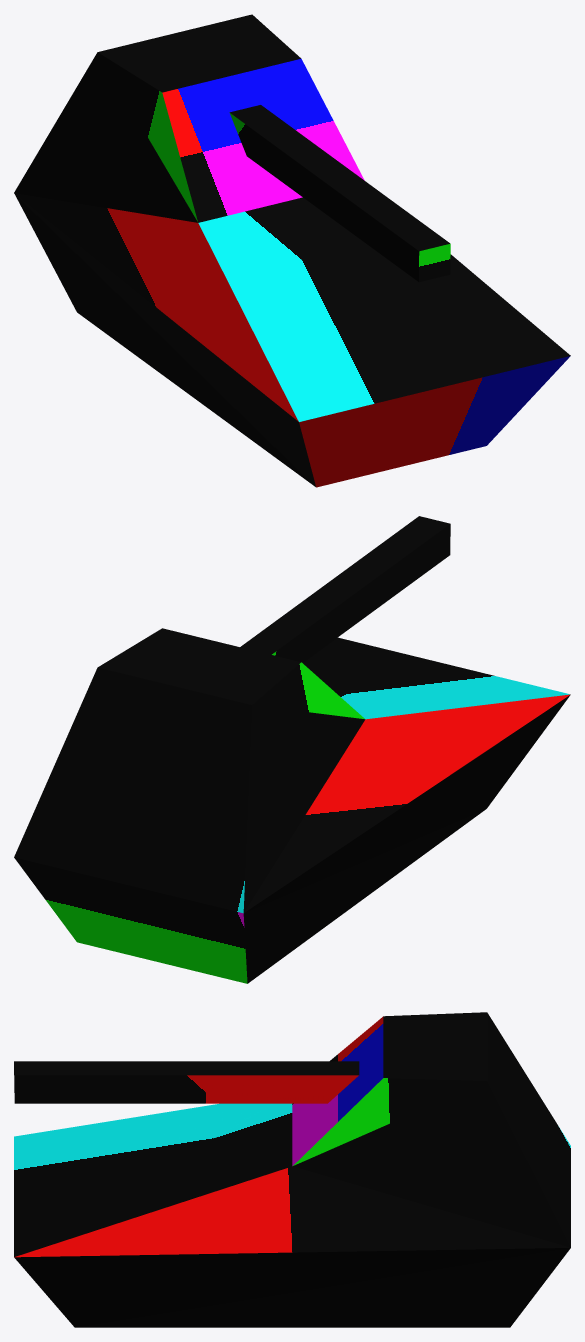
File: HeavyTank.obj
3 renders of one model, top to bottom at view 1: azimuth 30°, elevation 25°; view 2: azimuth 150°, elevation 25°; view 3: azimuth 270°, elevation 25°, orthographic. The views are drawn at different scales.
Visible parts, largest first — view 1: HeavyTank; view 2: HeavyTank; view 3: HeavyTank.
Boxes of the visible parts, x1,y1,x2,y2 form: HeavyTank: [14, 14, 570, 487]; HeavyTank: [14, 516, 570, 983]; HeavyTank: [14, 1012, 570, 1327].
Size of the model in its own units: 1.03 by 0.9641 by 2.
1 material, 1 textured.
